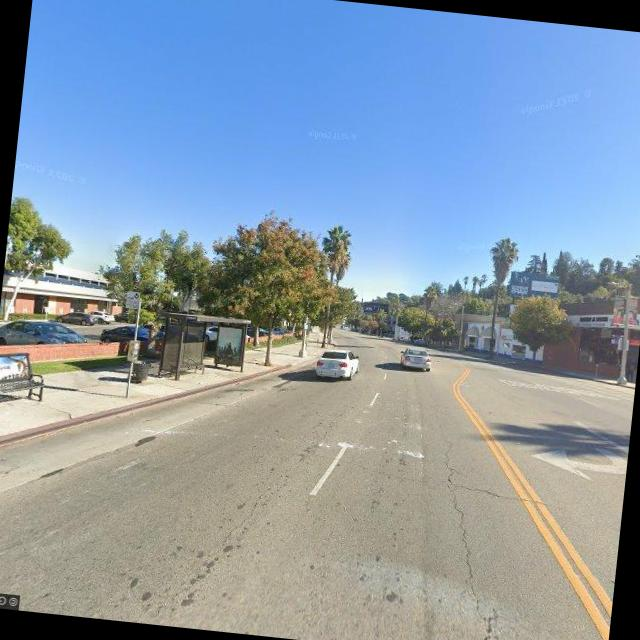crack: (418, 428, 527, 640), (313, 449, 590, 512)
